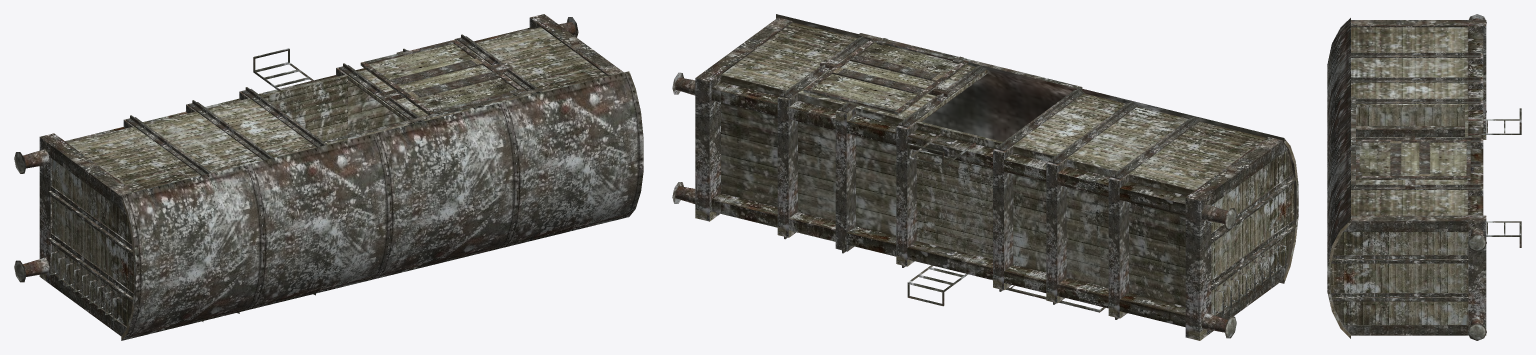
File: prop_traincar01_opendoor_snow.glb
3 renders of one model, left to right at view 1: azimuth 30°, elevation 25°; view 2: azimuth 150°, elevation 25°; view 3: azimuth 270°, elevation 25°, orthographic. The views are drawn at different scales.
Size of the model in its own units: 408 by 107 by 150.
Materials: 1 (1 with a texture image).
